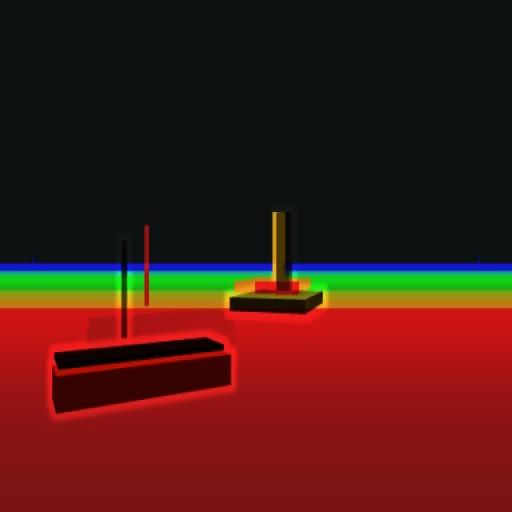platform: (232, 208, 324, 318)
vessel: (52, 240, 232, 416)
